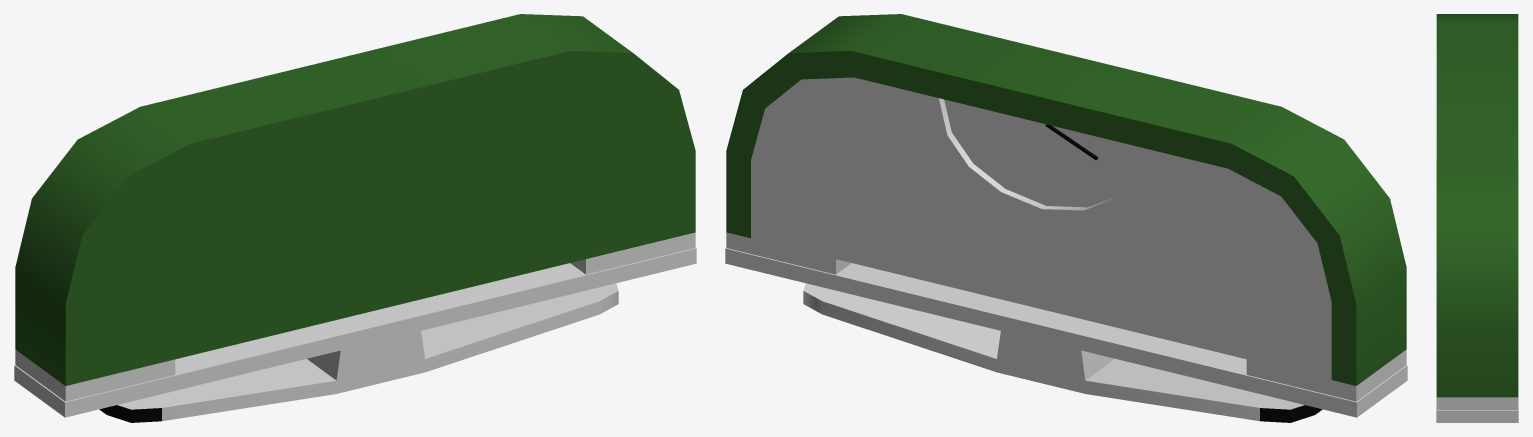
3 renders of one model, left to right at view 1: azimuth 30°, elevation 25°; view 2: azimuth 150°, elevation 25°; view 3: azimuth 270°, elevation 25°, orthographic. The views are drawn at different scales.
Visible parts, largest first — view 1: Cube; view 2: Cube; view 3: Cube.
Part boxes in pixels (x1=…): Cube: x1=14, y1=14, x2=696, y2=422; Cube: x1=725, y1=14, x2=1407, y2=422; Cube: x1=1436, y1=14, x2=1518, y2=422.
Bounding box in the file's own units: 13.03 × 5.63 × 1.81.
